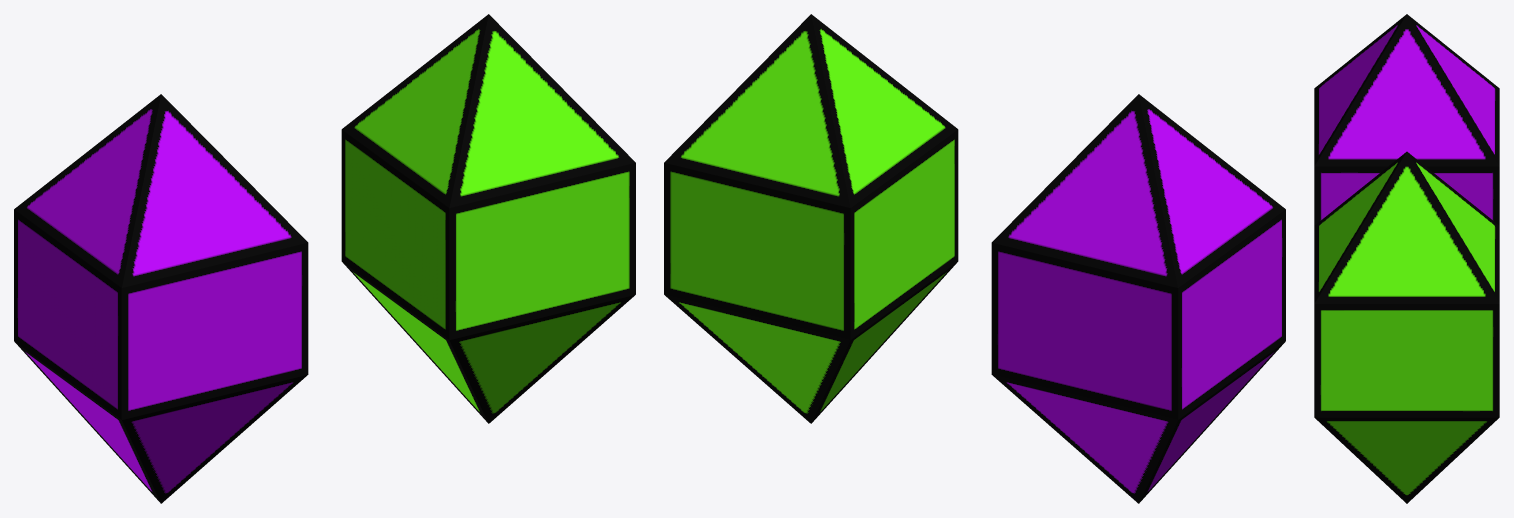
Rendered from crystals.glb.
3 renders of one model, left to right at view 1: azimuth 30°, elevation 25°; view 2: azimuth 150°, elevation 25°; view 3: azimuth 270°, elevation 25°, orthographic. The views are drawn at different scales.
Visible parts, largest first — view 1: CrystalPurple, CrystalGreen; view 2: CrystalPurple, CrystalGreen; view 3: CrystalGreen, CrystalPurple.
Boxes of the visible parts, <box> form: CrystalPurple: <box>14,94,308,503</box>; CrystalGreen: <box>341,14,635,423</box>; CrystalPurple: <box>991,94,1285,503</box>; CrystalGreen: <box>664,14,958,423</box>; CrystalGreen: <box>1314,151,1499,503</box>; CrystalPurple: <box>1314,14,1499,225</box>.
Size of the model in its own units: 2.99 by 2.28 by 1.09.
Materials: 1 (1 with a texture image).
